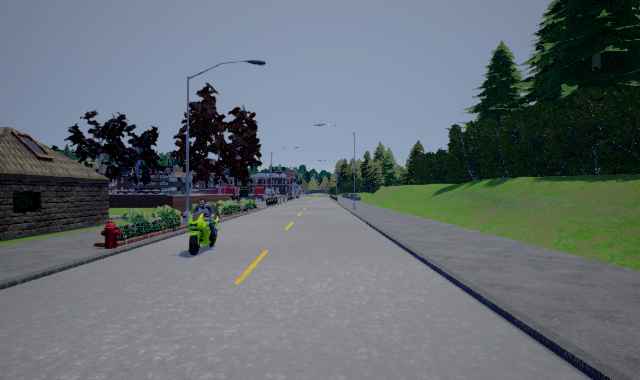motobike: (186, 200, 220, 256)
